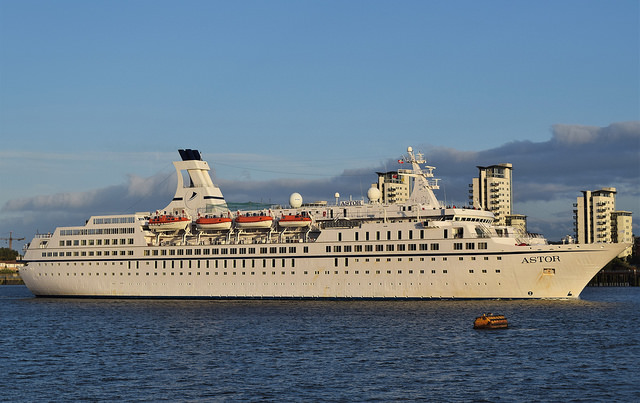cruise_ship: (21, 144, 633, 298)
